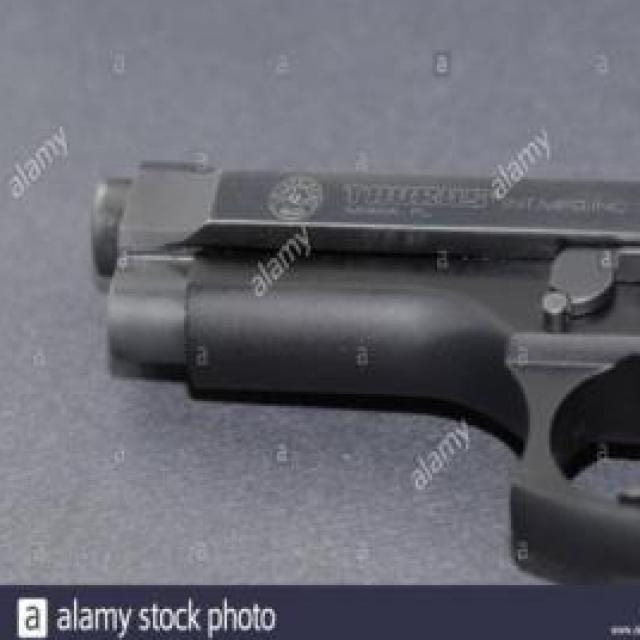pistol: (95, 150, 640, 589)
